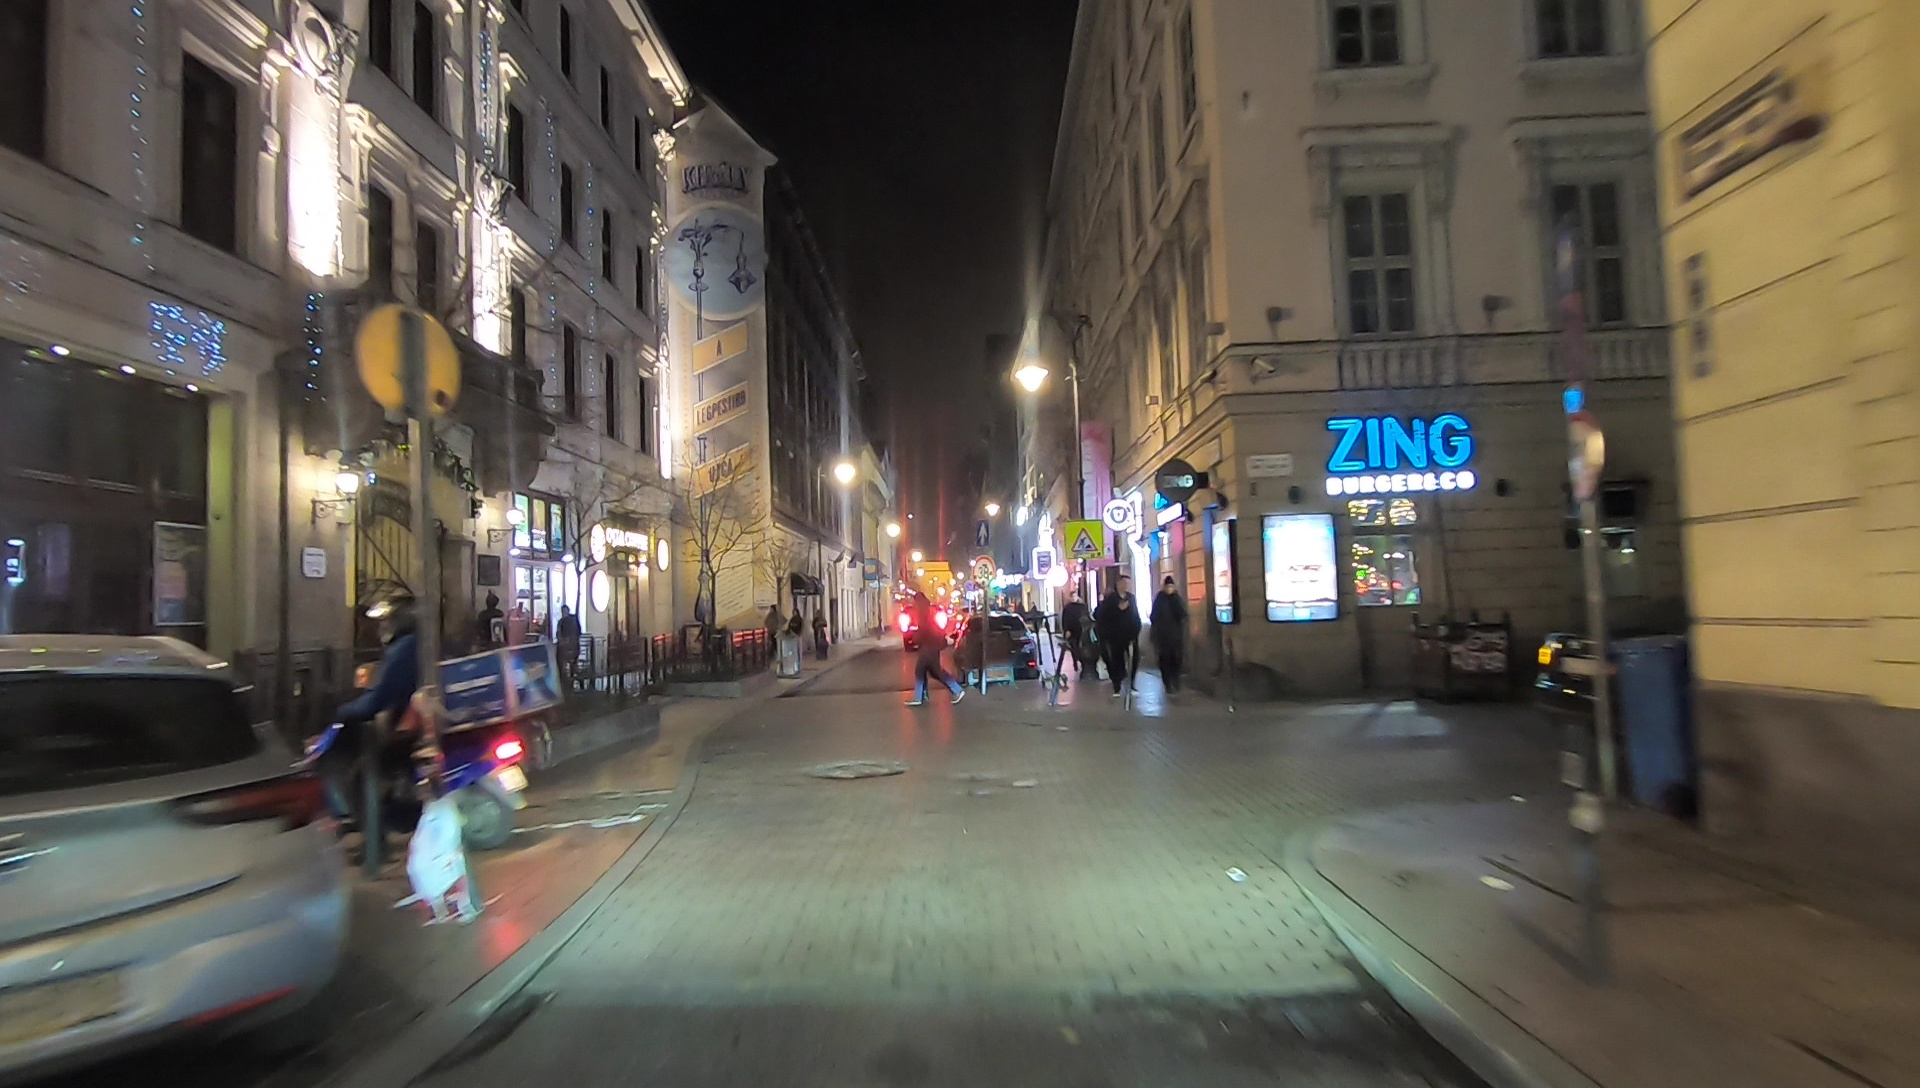person: (908, 604, 975, 715), (1095, 574, 1139, 678), (1154, 574, 1182, 678), (1063, 593, 1089, 667)
